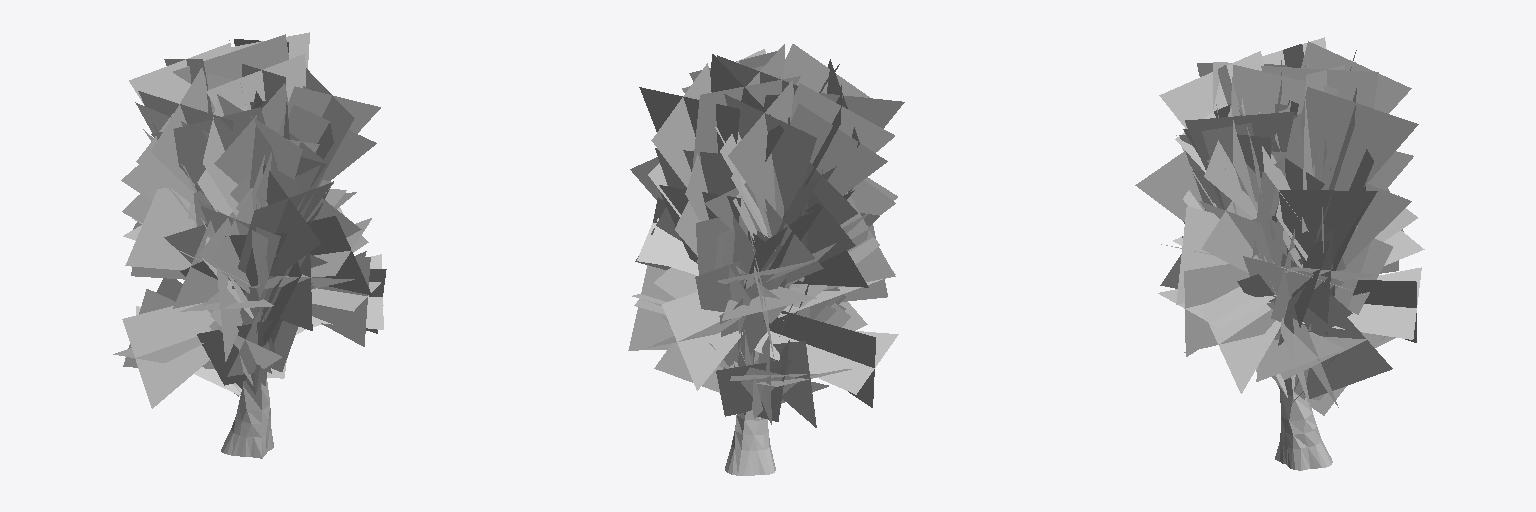
Rendered from tree.obj.
The picture shows the model from 3 angles: view 1: azimuth 30°, elevation 25°; view 2: azimuth 150°, elevation 25°; view 3: azimuth 270°, elevation 25°; orthographic projection.
Visible parts, largest first — view 1: tree03; view 2: tree03; view 3: tree03.
Part boxes in pixels (bbox=[...]): tree03: bbox=[113, 32, 386, 458]; tree03: bbox=[628, 44, 904, 475]; tree03: bbox=[1135, 37, 1424, 470].
Bounding box in the file's own units: 5.41 × 8.62 × 5.6.